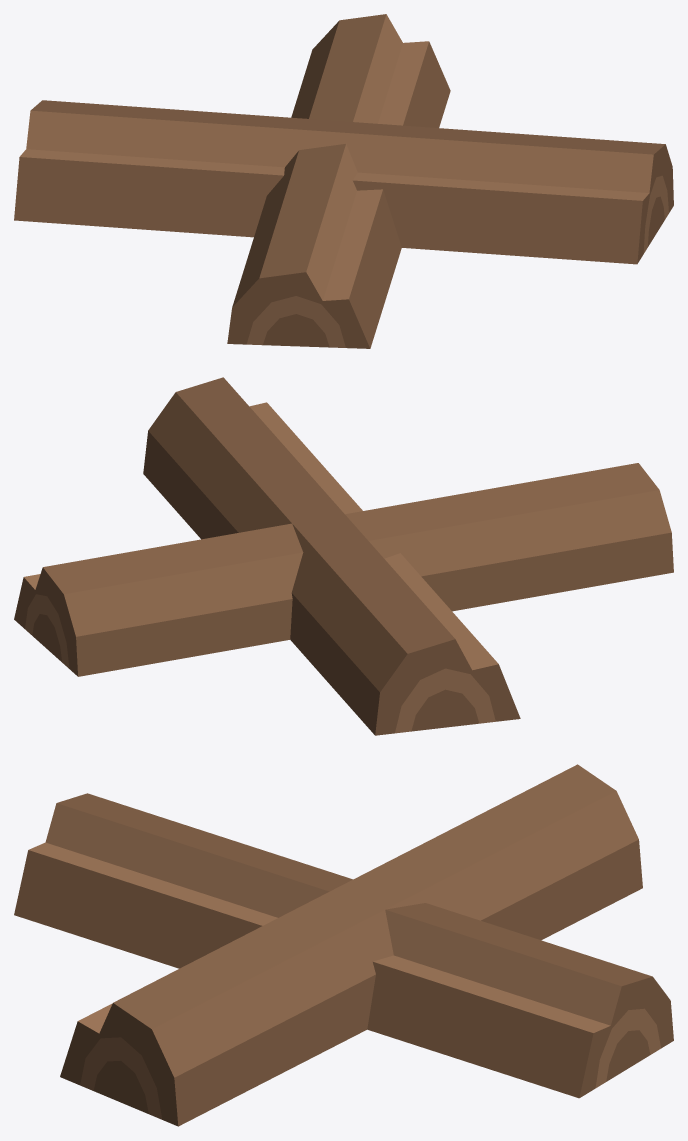
Rendered from bonfire_6.fbx.
3 renders of one model, top to bottom at view 1: azimuth 30°, elevation 25°; view 2: azimuth 150°, elevation 25°; view 3: azimuth 270°, elevation 25°, orthographic. The views are drawn at different scales.
Parts seen in each view (by area): view 1: bonfire_6; view 2: bonfire_6; view 3: bonfire_6.
Part boxes in pixels (left/top/right/bottom): bonfire_6: left=14, top=14, right=673, bottom=348; bonfire_6: left=14, top=377, right=673, bottom=735; bonfire_6: left=14, top=764, right=673, bottom=1126.
Bounding box in the file's own units: 59.67 × 9.32 × 57.78.
1 material, 1 textured.
